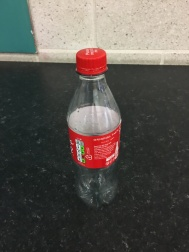bottle_red: (51, 43, 132, 216)
